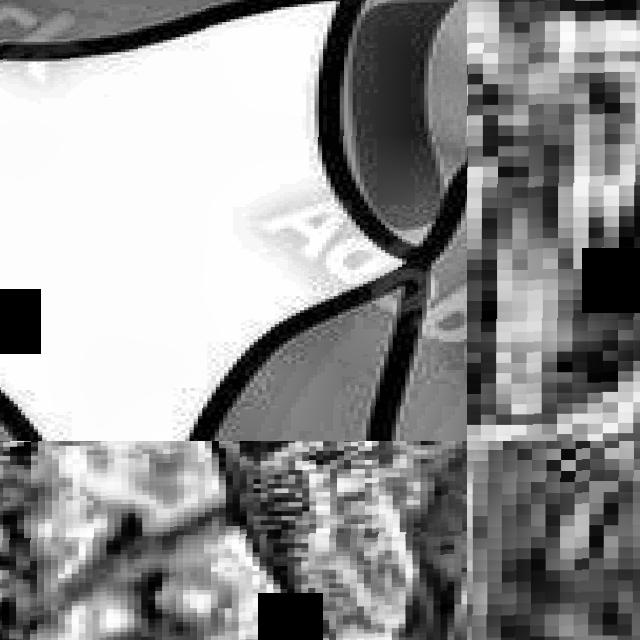crab: (0, 0, 467, 441), (0, 441, 467, 640), (467, 0, 640, 441), (467, 441, 640, 640)
